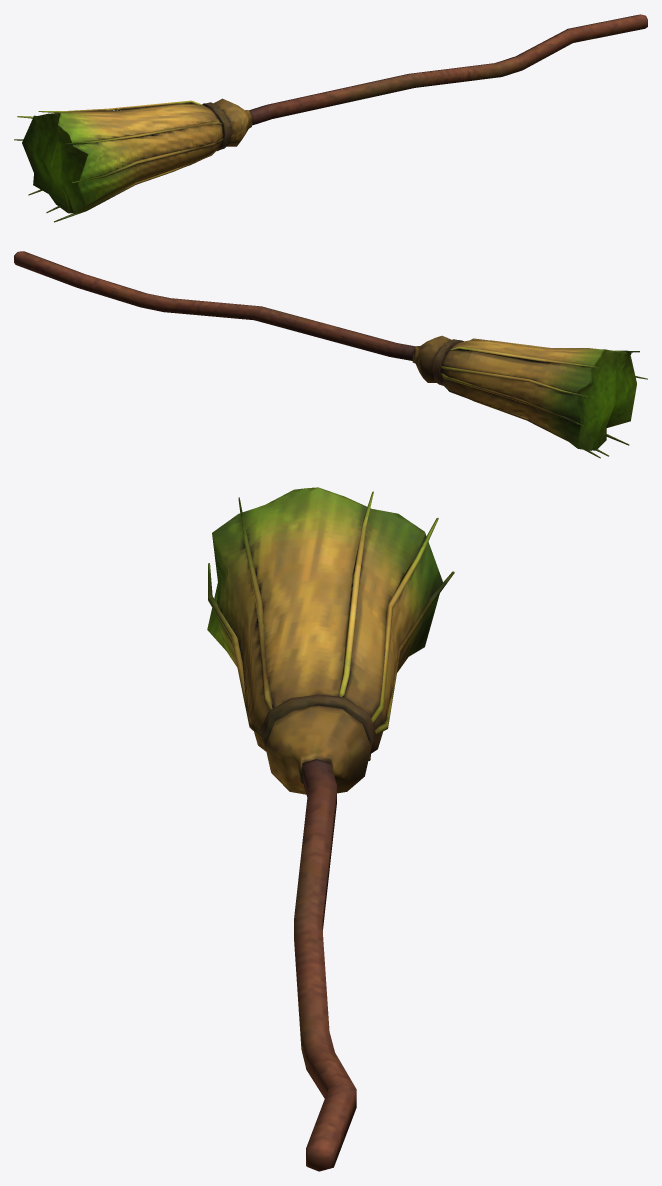
Rendered from GorillaTagWitchBroom.fbx.
The picture shows the model from 3 angles, top to bottom: view 1: azimuth 30°, elevation 25°; view 2: azimuth 150°, elevation 25°; view 3: azimuth 270°, elevation 25°; orthographic projection. The views are drawn at different scales.
Parts seen in each view (by area): view 1: Broom_Witch; view 2: Broom_Witch; view 3: Broom_Witch.
Part boxes in pixels (x1,y1,x2,y2): Broom_Witch: (14,14,647,222); Broom_Witch: (14,251,647,458); Broom_Witch: (207,487,454,1171).
Size of the model in its own units: 125 by 20.22 by 22.21.
